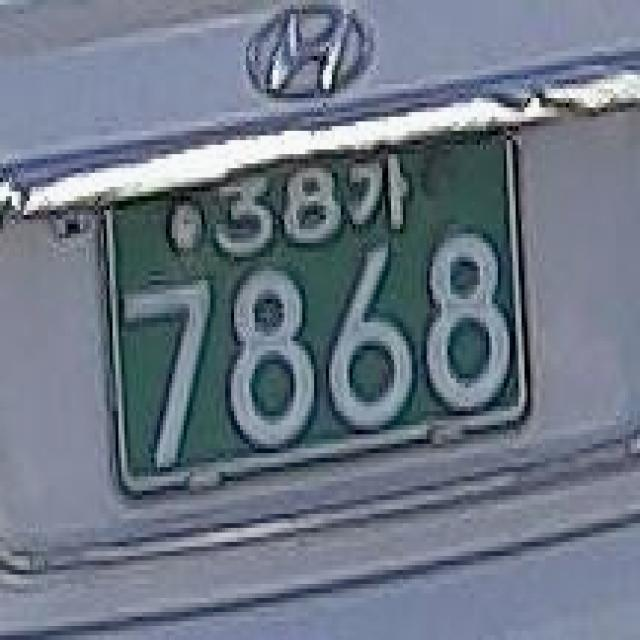illegal_plate: (84, 115, 547, 508)
